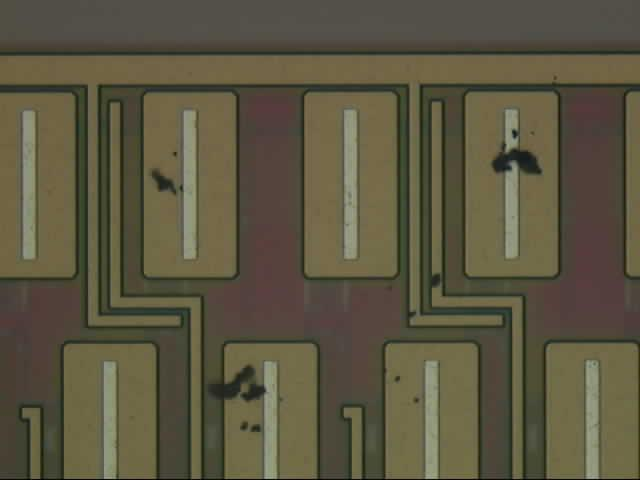PO CONTAMINATION: (146, 74, 564, 438)
